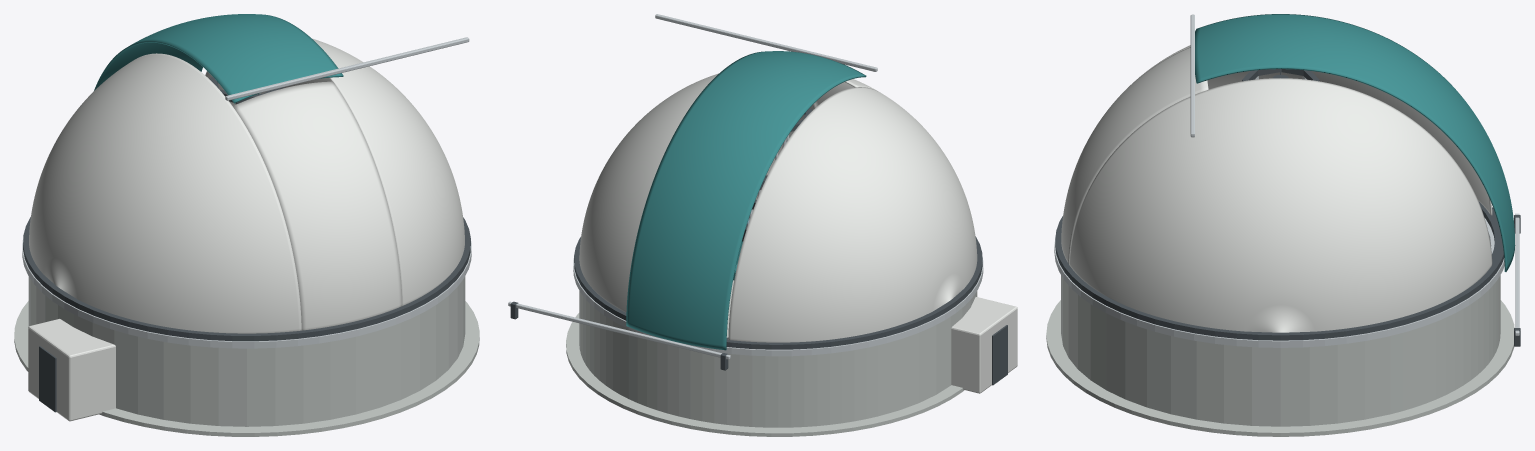
The model's file is Altaz_C.glb.
3 renders of one model, left to right at view 1: azimuth 30°, elevation 25°; view 2: azimuth 150°, elevation 25°; view 3: azimuth 270°, elevation 25°, orthographic. The views are drawn at different scales.
Parts seen in each view (by area): view 1: Dome_left_shell, Building_rear_wall, Dome_rear_bridge, Dome_right_shell, Curved_shutter, Service_annex, Foundation_slab, Rotating_dome_track, Fixed_dome_track, Shutter_rail_Rear, Service_door; view 2: Dome_left_shell, Curved_shutter, Building_front_panel, Dome_right_shell, Building_rear_wall, Foundation_slab, Service_annex, Rotating_dome_track, Fixed_dome_track, Shutter_rail_Front, Shutter_rail_Rear, Service_door; view 3: Dome_right_shell, Building_rear_wall, Curved_shutter, Building_front_panel, Foundation_slab, Dome_rear_bridge, Rotating_dome_track, Fixed_dome_track, Dome_left_shell, Shutter_rail_Rear, Shutter_rail_Front, Secondary_ring.
Part boxes in pixels (left/top/right/bottom): Dome_left_shell: left=29, top=53, right=301, bottom=333; Building_rear_wall: left=28, top=276, right=465, bottom=426; Dome_rear_bridge: left=232, top=81, right=402, bottom=330; Dome_right_shell: left=205, top=38, right=464, bottom=305; Curved_shutter: left=94, top=14, right=343, bottom=103; Service_annex: left=28, top=318, right=115, bottom=421; Foundation_slab: left=14, top=301, right=479, bottom=436; Rotating_dome_track: left=23, top=217, right=470, bottom=341; Fixed_dome_track: left=22, top=239, right=471, bottom=348; Shutter_rail_Rear: left=225, top=37, right=469, bottom=100; Service_door: left=39, top=346, right=56, bottom=412; Dome_left_shell: left=728, top=87, right=977, bottom=342; Curved_shutter: left=626, top=51, right=866, bottom=350; Building_front_panel: left=579, top=291, right=877, bottom=427; Dome_right_shell: left=579, top=73, right=815, bottom=312; Building_rear_wall: left=752, top=194, right=977, bottom=416; Foundation_slab: left=566, top=280, right=964, bottom=436; Service_annex: left=951, top=297, right=1017, bottom=393; Rotating_dome_track: left=574, top=175, right=982, bottom=349; Fixed_dome_track: left=573, top=256, right=983, bottom=356; Shutter_rail_Front: left=508, top=301, right=730, bottom=359; Shutter_rail_Rear: left=655, top=14, right=877, bottom=71; Service_door: left=992, top=325, right=1007, bottom=385; Dome_right_shell: left=1069, top=78, right=1492, bottom=332; Building_rear_wall: left=1061, top=275, right=1390, bottom=426; Curved_shutter: left=1195, top=14, right=1515, bottom=271; Building_front_panel: left=1390, top=275, right=1500, bottom=413; Foundation_slab: left=1046, top=300, right=1514, bottom=436; Dome_rear_bridge: left=1061, top=47, right=1208, bottom=264; Rotating_dome_track: left=1055, top=202, right=1504, bottom=340; Fixed_dome_track: left=1054, top=218, right=1504, bottom=347; Dome_left_shell: left=1120, top=45, right=1492, bottom=215; Shutter_rail_Rear: left=1190, top=14, right=1194, bottom=137; Shutter_rail_Front: left=1515, top=213, right=1519, bottom=335; Secondary_ring: left=1242, top=69, right=1319, bottom=81.
Size of the model in its own units: 13.45 by 9.19 by 12.95.
